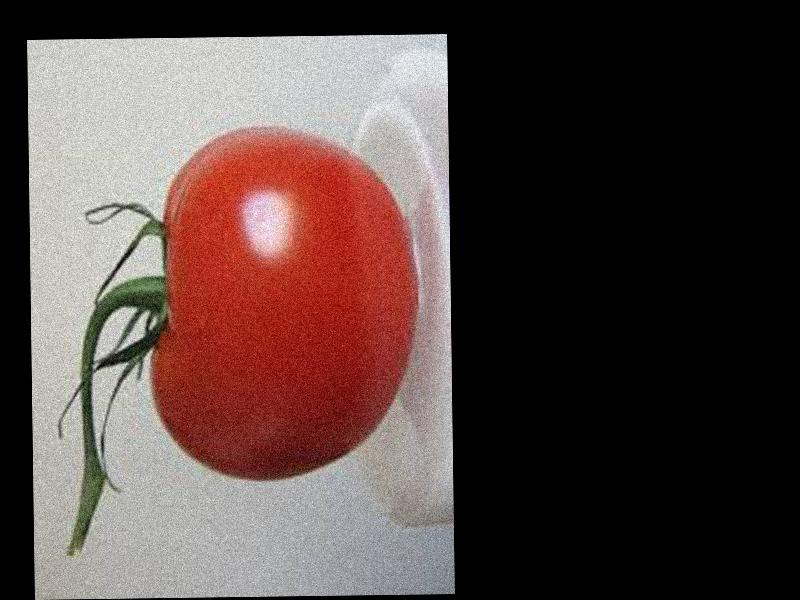Tomato: (147, 125, 419, 482)
